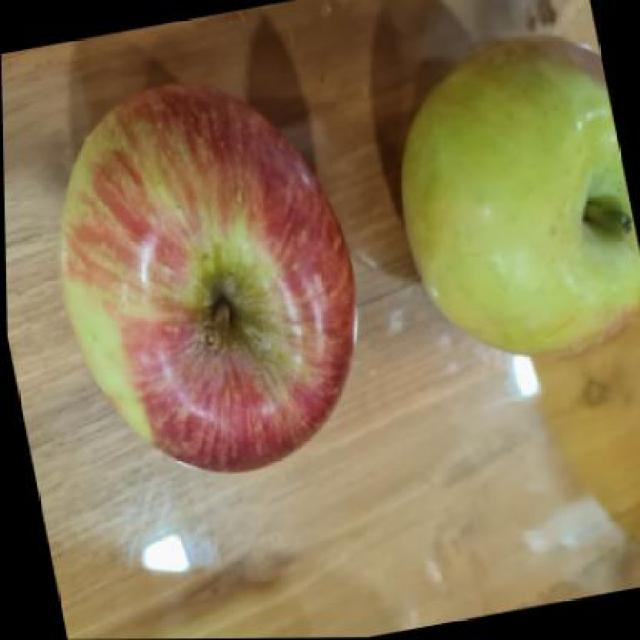Fresh Apple: (82, 96, 354, 470), (383, 44, 640, 347)
